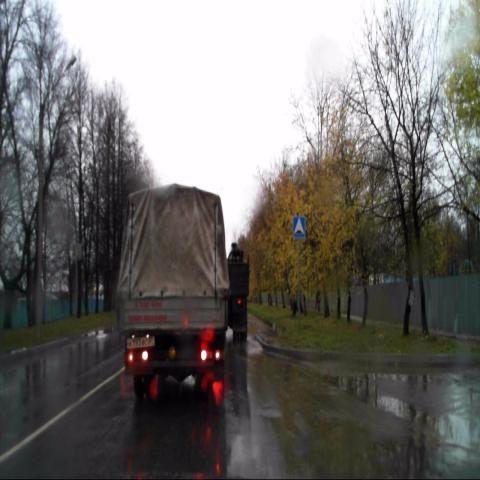5_20: (292, 214, 306, 237)
